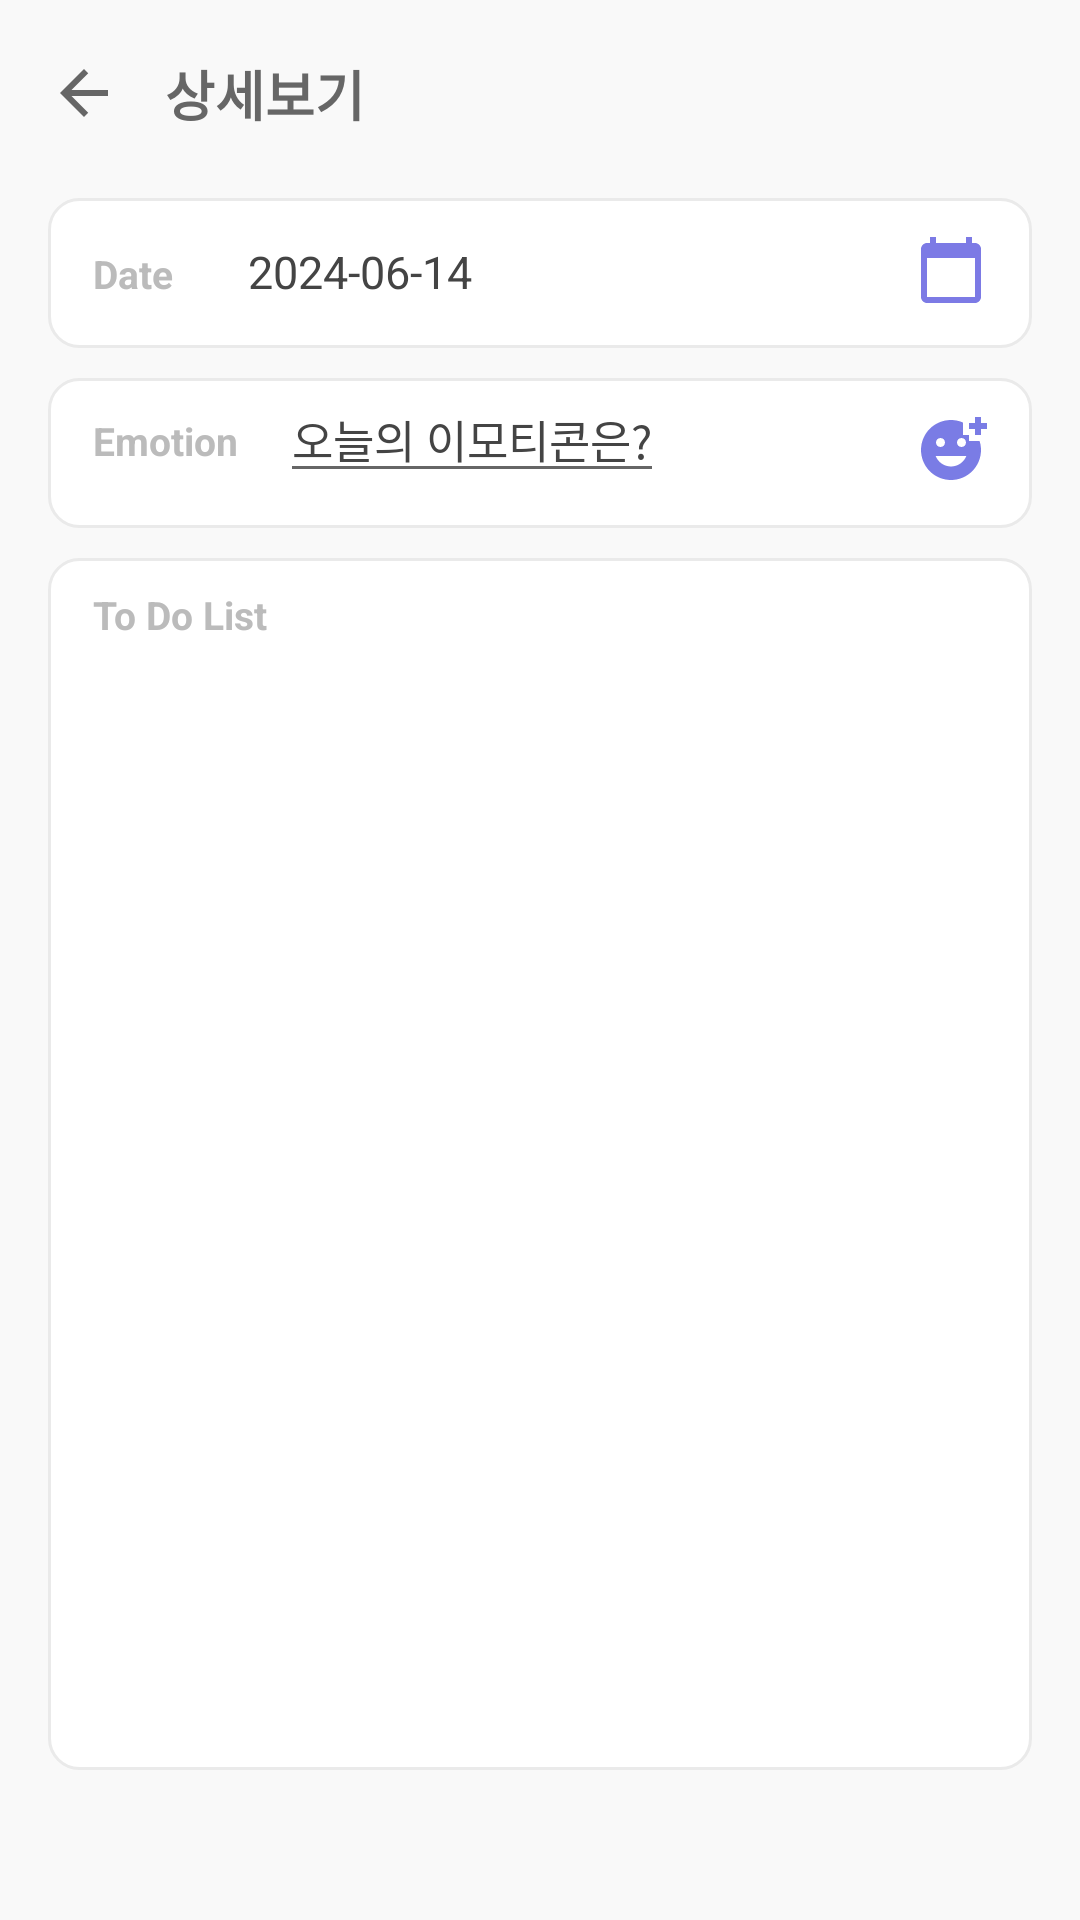

Locate icon controls on the screen. Image size 1080w x 1920h, boxes as (x1, y1, x2, y2).
add emoticon: (921, 417, 987, 480)
back: (60, 69, 108, 117)
cal: (921, 237, 981, 303)
